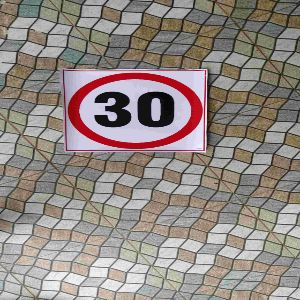speedlimit30: (60, 65, 208, 151)
